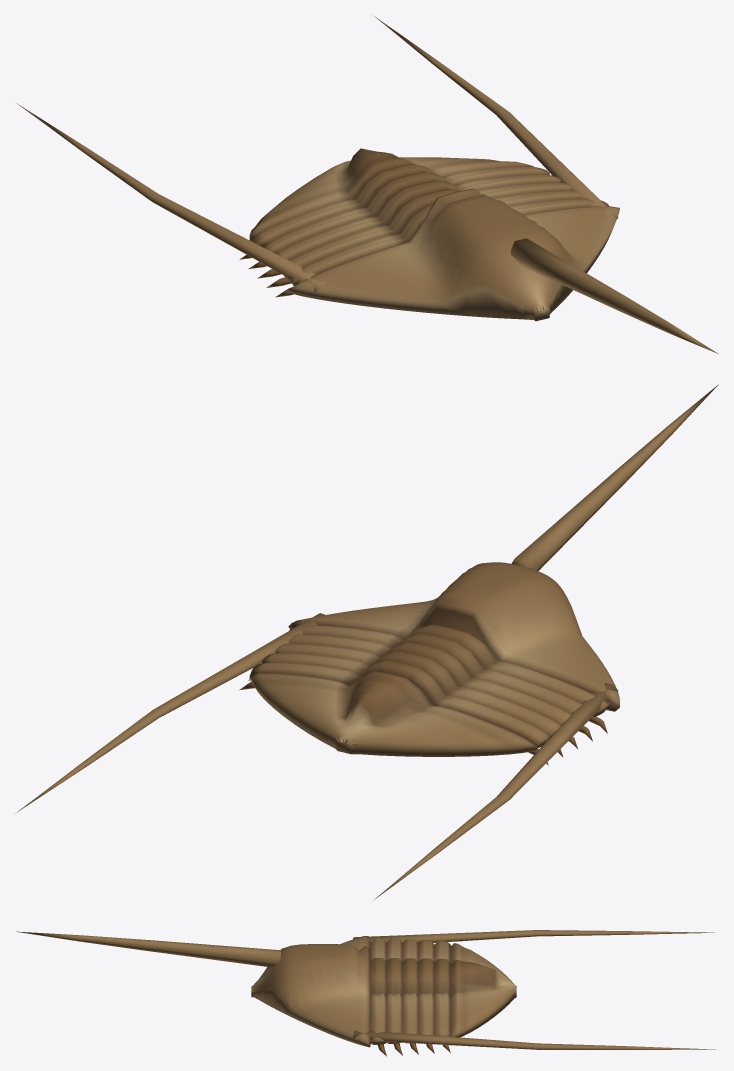
Rendered from AmpyxPriscus.fbx.
3 views of the same model, one above another, from view 1: azimuth 30°, elevation 25°; view 2: azimuth 150°, elevation 25°; view 3: azimuth 270°, elevation 25° (orthographic). The views are drawn at different scales.
Parts seen in each view (by area): view 1: AmpyxPriscus; view 2: AmpyxPriscus; view 3: AmpyxPriscus.
Boxes of the visible parts, x1,y1,x2,y2 form: AmpyxPriscus: (16, 16, 718, 353); AmpyxPriscus: (15, 384, 718, 900); AmpyxPriscus: (16, 930, 715, 1056).
Size of the model in its own units: 0.9964 by 0.2807 by 2.53.
